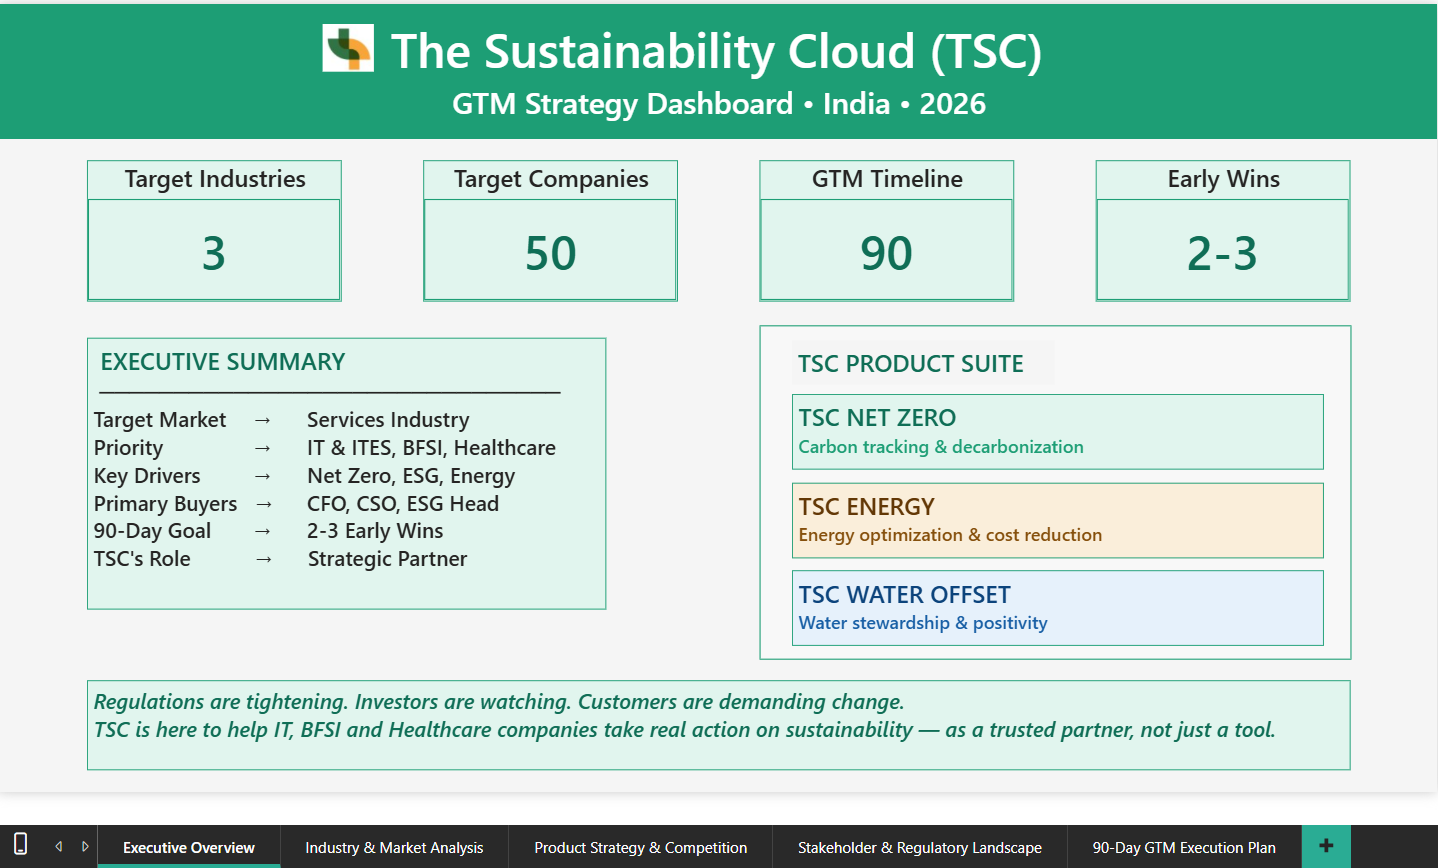

The dashboard page shown, as its layout file describes it:
{"tool":"powerbi","page":{"name":"Executive Overview","canvas":[1280,700],"ordinal":0},"visuals":[{"type":"textbox","box":[0,0,1280.2,120.4],"z":0},{"type":"shape","title":" Target Industries","box":[80.1,139.3,226.2,125.7],"z":1000},{"type":"shape","title":"Target Companies","box":[378.9,139.3,226.2,125.7],"z":2000},{"type":"shape","title":"GTM Timeline","box":[677.7,139.3,226.2,125.7],"z":3000},{"type":"shape","title":"Early Wins","box":[976.5,139.3,226.2,125.7],"z":4000},{"type":"textbox","title":"EXECUTIVE SUMMARY","box":[80.2,296.2,461.4,241.9],"z":5000},{"type":"textbox","box":[80.2,600.6,1123.3,80.2],"z":6000},{"type":"shape","box":[677.3,285.5,526.3,297.3],"z":7000},{"type":"textbox","box":[706.8,346.9,473.2,67.3],"z":8000},{"type":"textbox","box":[706.8,426,473.2,67.3],"z":9000},{"type":"textbox","box":[706.8,503.8,473.2,67.3],"z":10000},{"type":"textbox","box":[706.8,298.5,233.6,38.9],"z":11000},{"type":"image","box":[282,17.7,60.2,42.5],"z":12000}]}

Visuals, with their boxes on the page's 1280x700 design canvas (x1, y1, x2, y2). These are canvas units, not pixel positions in the 1438x868 screenshot, which may show the page scaled, cropped or inside an application window:
textbox: 0 0 1280 120
" Target Industries" shape: 80 139 306 265
"Target Companies" shape: 379 139 605 265
"GTM Timeline" shape: 678 139 904 265
"Early Wins" shape: 976 139 1203 265
"EXECUTIVE SUMMARY" textbox: 80 296 542 538
textbox: 80 601 1204 681
shape: 677 286 1204 583
textbox: 707 347 1180 414
textbox: 707 426 1180 493
textbox: 707 504 1180 571
textbox: 707 298 940 337
image: 282 18 342 60
